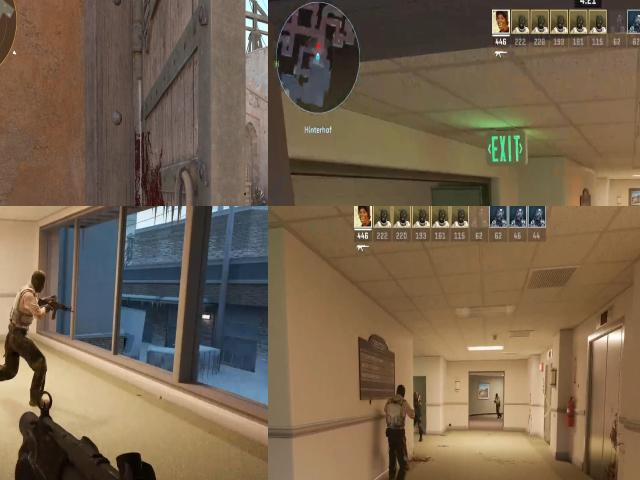CT: (414, 390, 425, 433), (250, 188, 268, 206)
CT-Head: (414, 388, 421, 400), (255, 190, 261, 198)
T: (2, 287, 56, 344), (386, 387, 409, 441), (494, 391, 500, 415)
T-Head: (16, 268, 50, 294), (393, 383, 408, 403)
